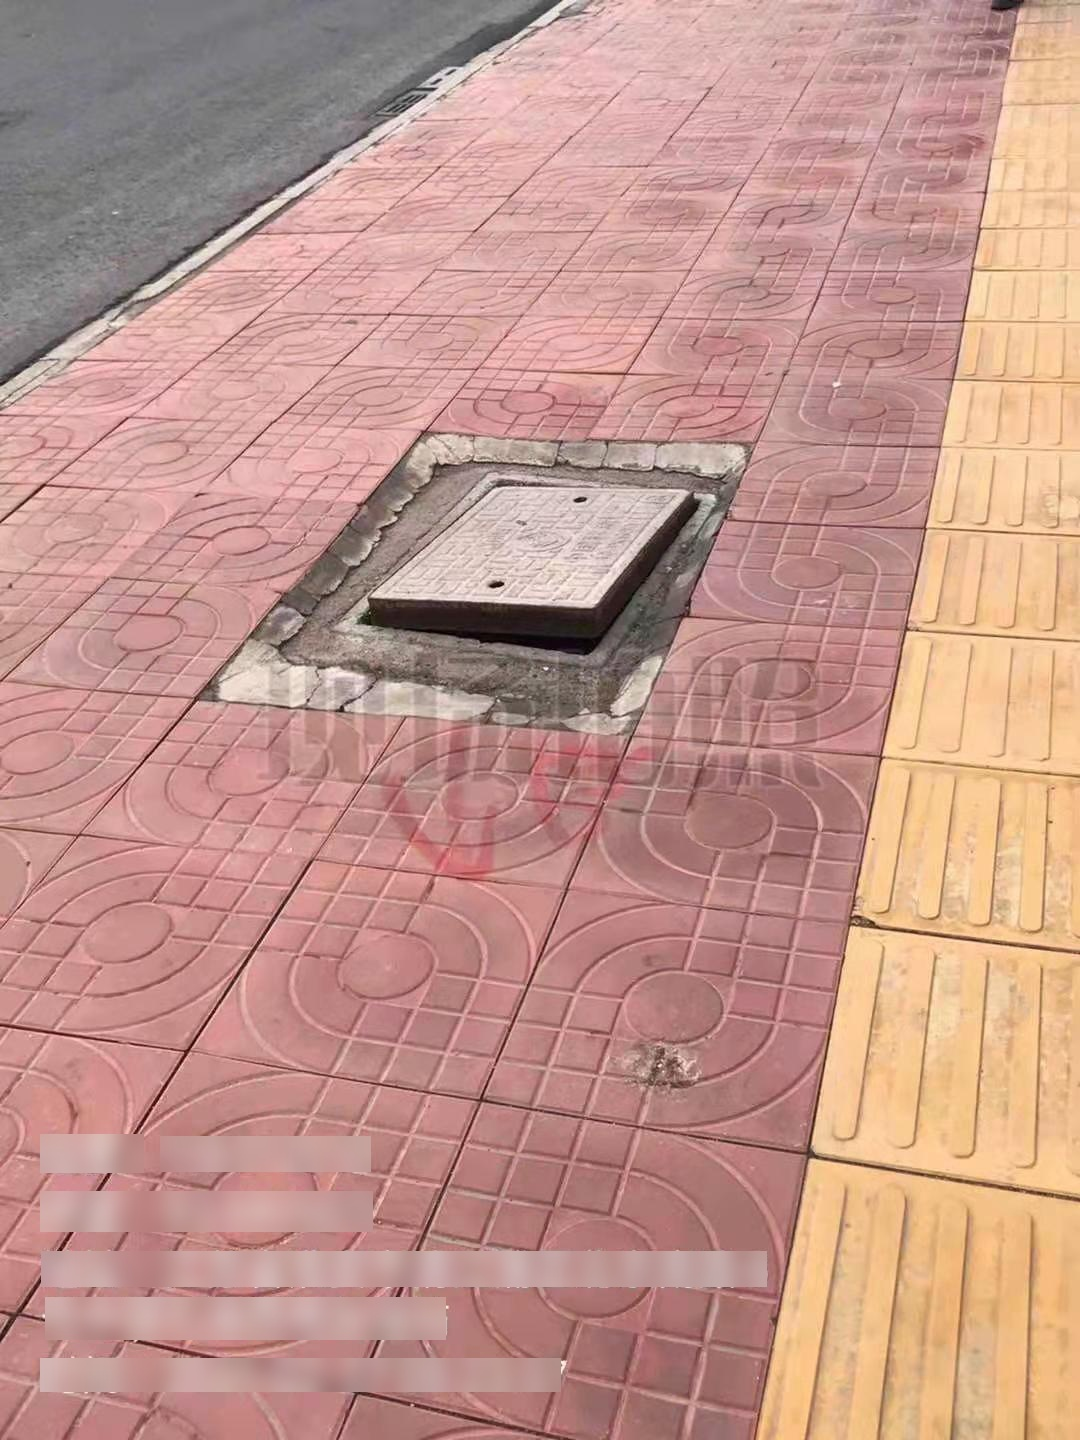well: (330, 466, 728, 671)
